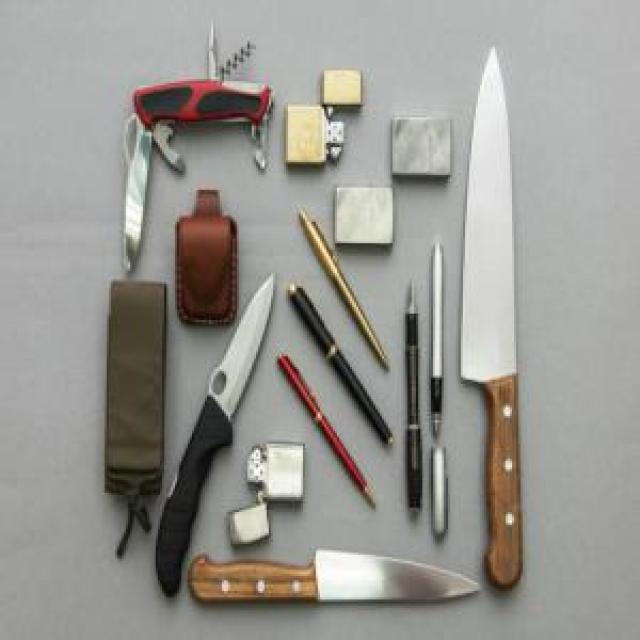knife: (156, 271, 277, 597), (108, 75, 282, 274), (465, 30, 521, 580), (188, 552, 480, 598)
